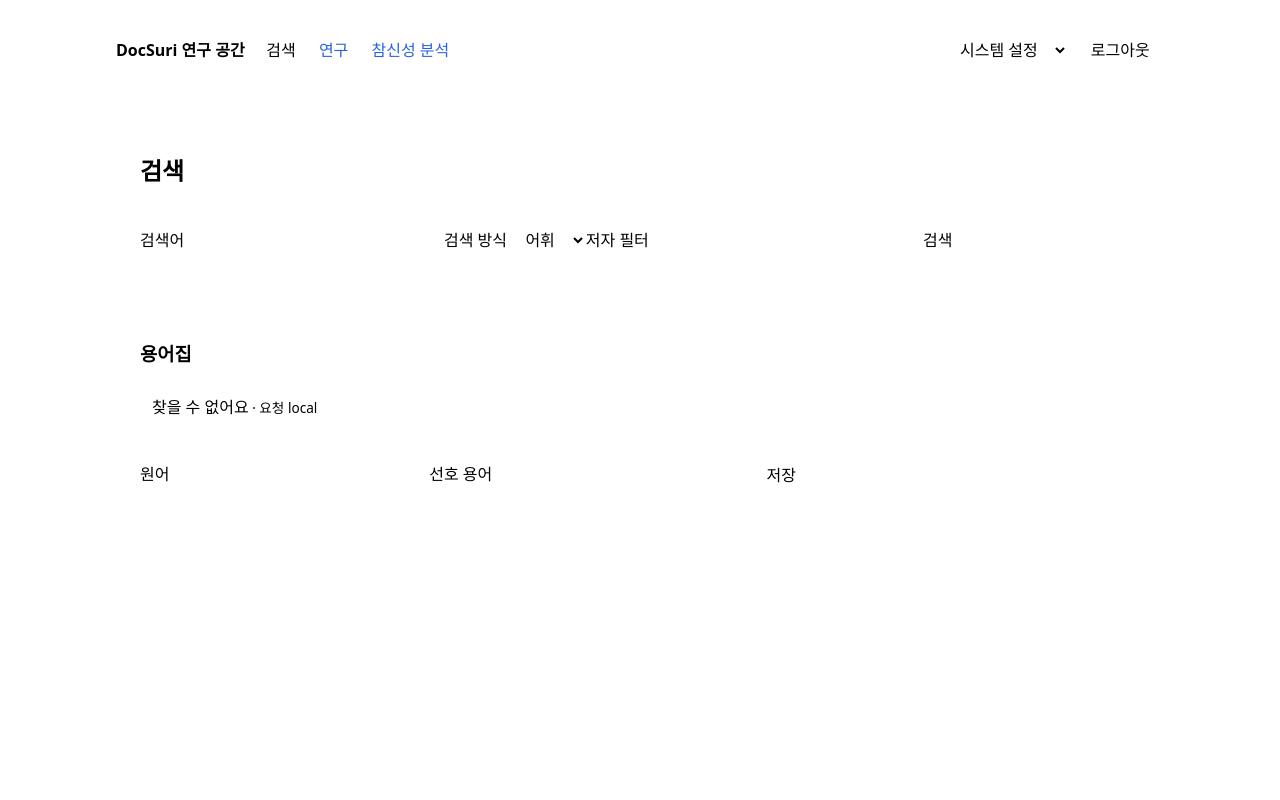
shared shell research contribution › coexists with the installed corpus search surface in the cumulative application
The image size is (1280, 800).
Expected: the element with test id "corpus-workspace" is shown, [140, 154, 967, 507]
Click the button with test id "nav-research" at point(334, 50), box [309, 30, 358, 70]
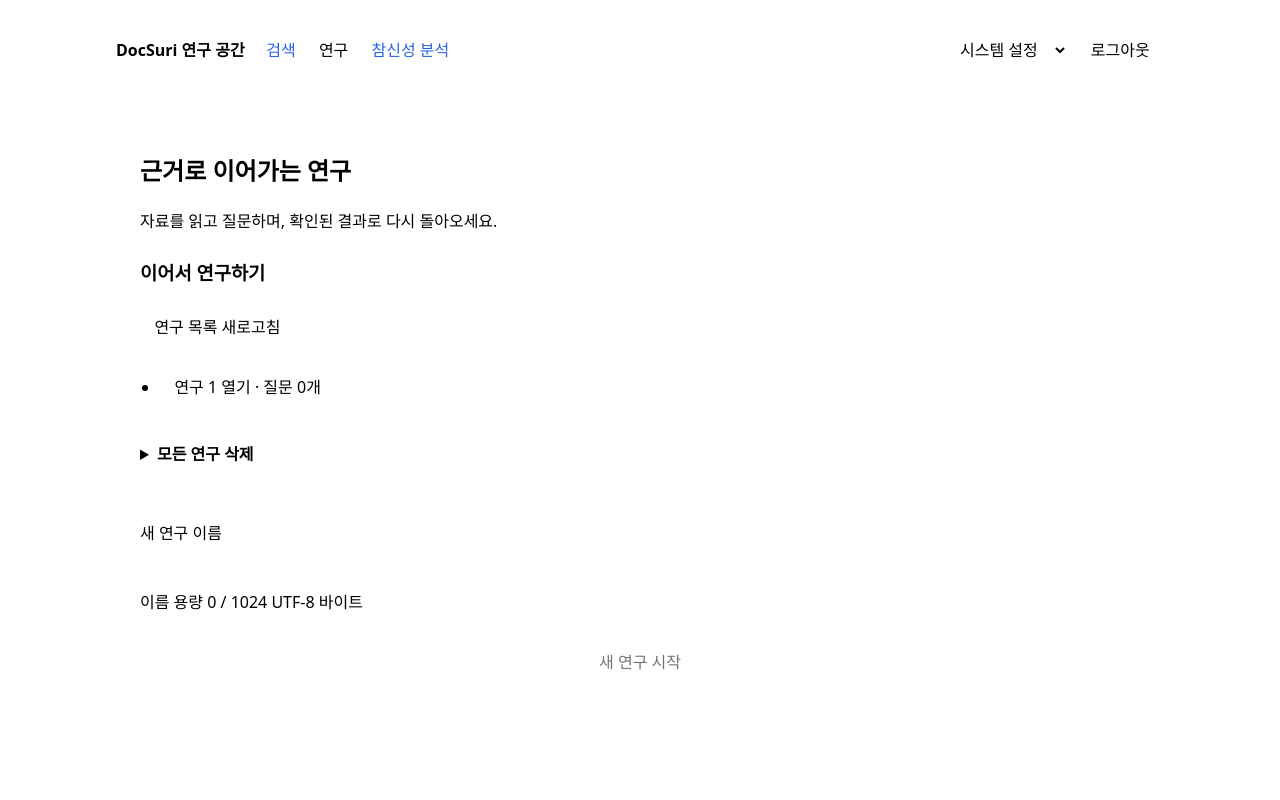
Expected: the element with test id "workspace-research" is shown
